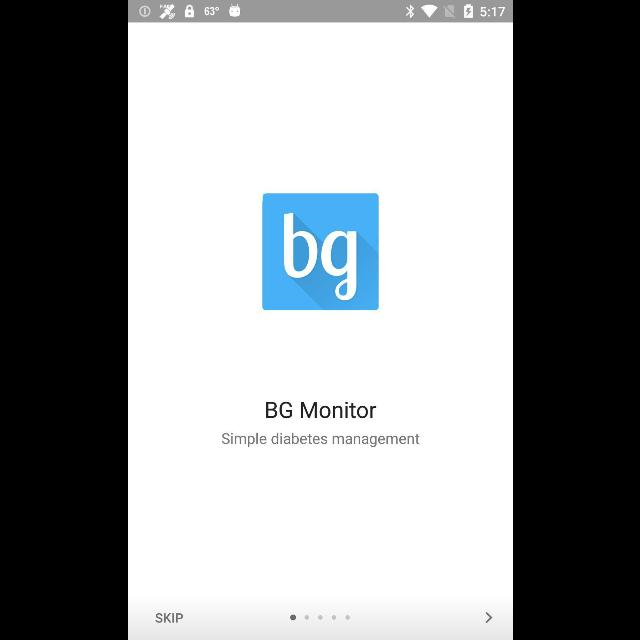icon: (484, 612, 492, 624)
image: (262, 194, 378, 310)
pageindicator: (288, 614, 349, 620)
text: (221, 432, 419, 448), (266, 402, 376, 418), (155, 613, 183, 623)
uppertaskbar: (128, 1, 512, 23)
